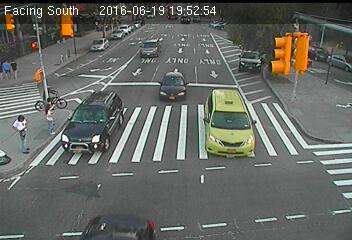neg: (252, 71, 271, 98), (306, 67, 324, 91), (207, 127, 224, 149), (232, 37, 246, 56), (151, 185, 165, 204), (290, 123, 304, 142), (250, 139, 263, 156), (36, 44, 48, 61), (111, 46, 123, 62), (163, 126, 175, 142), (256, 166, 268, 182), (129, 111, 141, 126), (204, 178, 216, 193), (227, 9, 239, 24), (97, 186, 108, 200), (192, 44, 203, 57), (213, 81, 223, 95), (275, 7, 285, 21), (140, 6, 150, 20), (164, 85, 173, 98), (188, 12, 197, 25), (123, 80, 132, 92), (25, 7, 34, 19), (160, 41, 167, 50)
pos: (4, 109, 37, 153), (35, 95, 64, 133), (9, 58, 24, 78)
